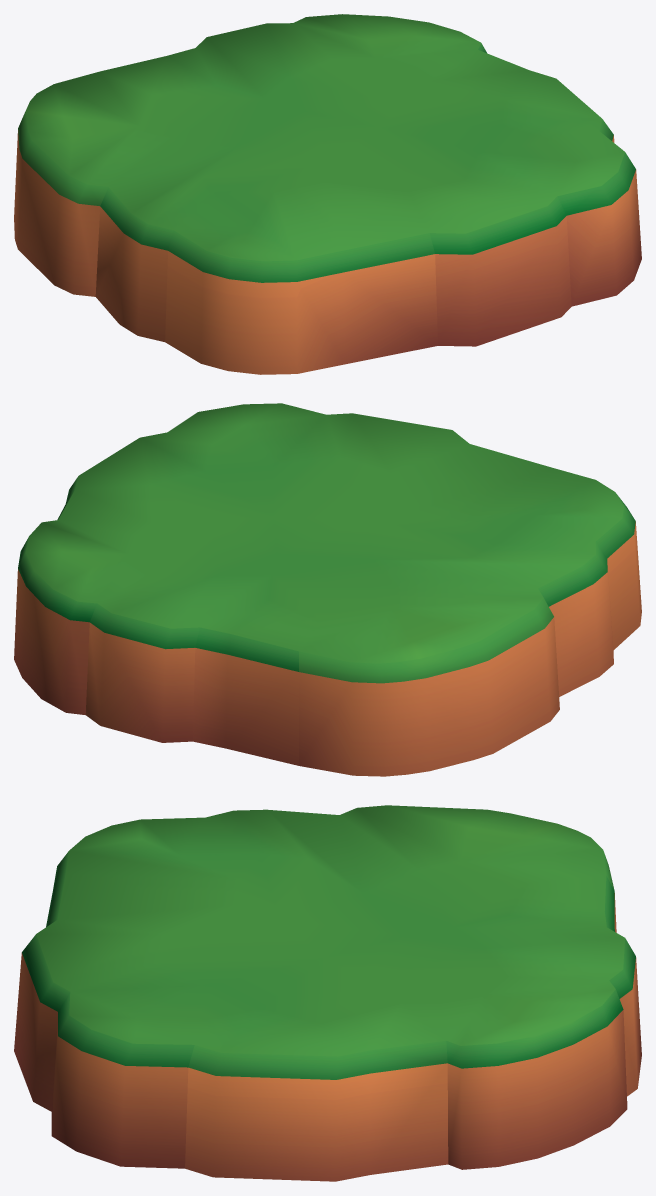
The model's file is Ground 01 Soft Edge.FBX.
3 renders of one model, top to bottom at view 1: azimuth 30°, elevation 25°; view 2: azimuth 150°, elevation 25°; view 3: azimuth 270°, elevation 25°, orthographic. The views are drawn at different scales.
Parts seen in each view (by area): view 1: Ground 01 Soft Edge; view 2: Ground 01 Soft Edge; view 3: Ground 01 Soft Edge.
Boxes of the visible parts, x1,y1,x2,y2 form: Ground 01 Soft Edge: [14, 14, 641, 374]; Ground 01 Soft Edge: [14, 403, 641, 776]; Ground 01 Soft Edge: [14, 805, 641, 1181].
Size of the model in its own units: 2062 by 420 by 2045.
